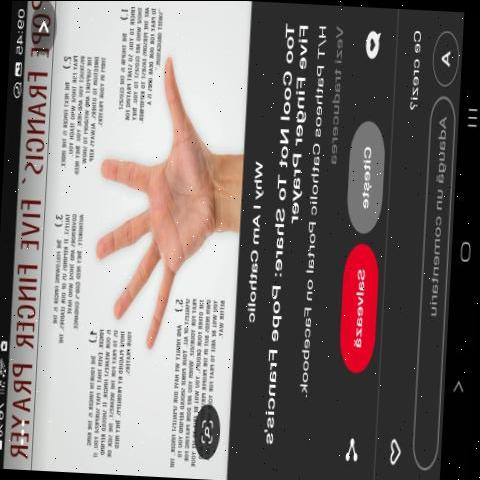Hands: (77, 43, 241, 366)
